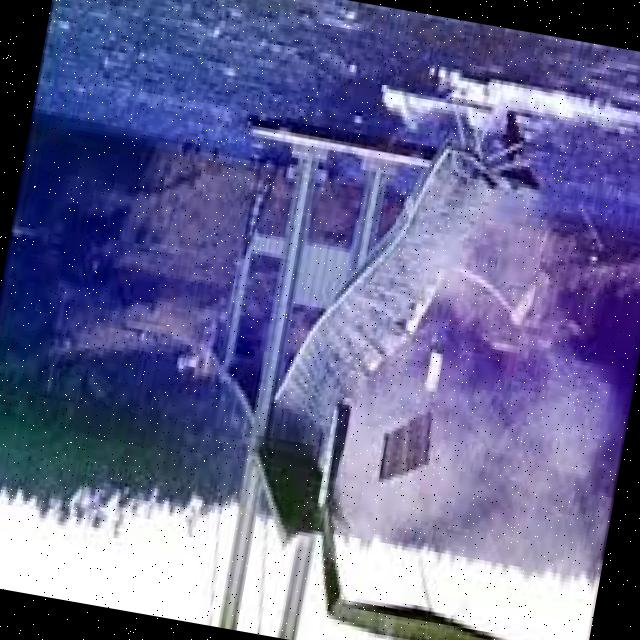bridge collapse: (124, 82, 640, 640)
